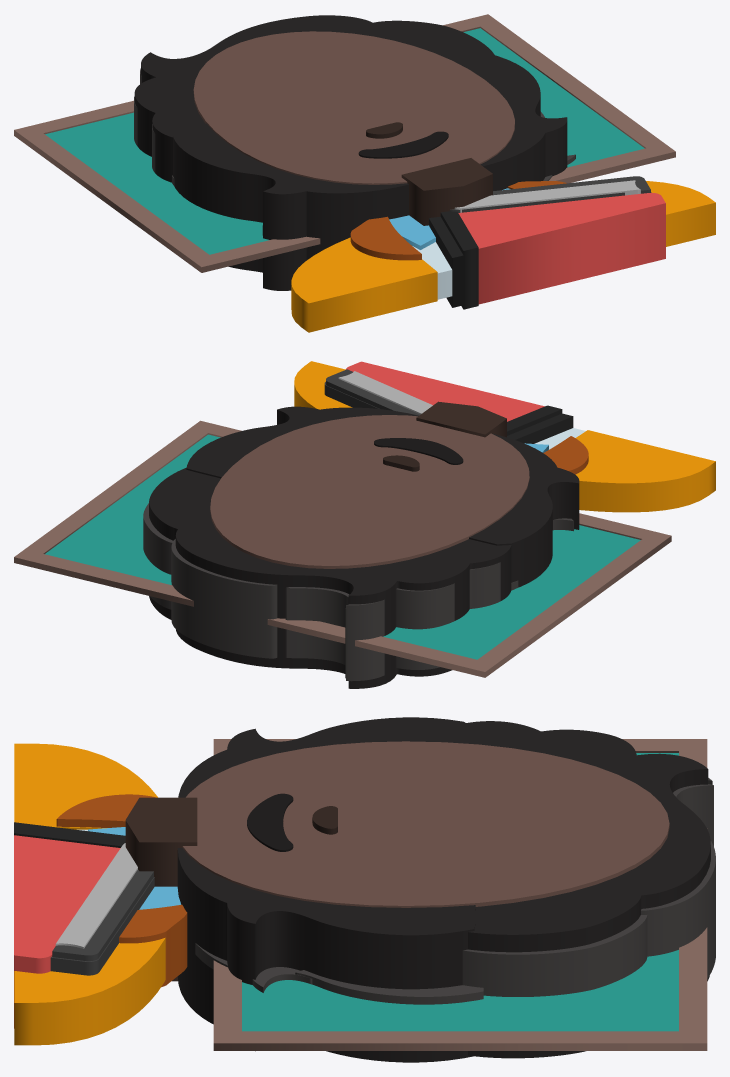
The model's file is emoji_u1f9d1_1f3ff_200d_1f3eb.glb.
The picture shows the model from 3 angles, top to bottom: view 1: azimuth 30°, elevation 25°; view 2: azimuth 150°, elevation 25°; view 3: azimuth 270°, elevation 25°; orthographic projection. The views are drawn at different scales.
Parts seen in each view (by area): view 1: emoji_u1f9d1_1f3ff_200d_1f3eb; view 2: emoji_u1f9d1_1f3ff_200d_1f3eb; view 3: emoji_u1f9d1_1f3ff_200d_1f3eb.
Part boxes in pixels (left/top/right/bottom): emoji_u1f9d1_1f3ff_200d_1f3eb: left=14, top=14, right=715, bottom=332; emoji_u1f9d1_1f3ff_200d_1f3eb: left=14, top=361, right=715, bottom=688; emoji_u1f9d1_1f3ff_200d_1f3eb: left=14, top=717, right=715, bottom=1062.
Size of the model in its own units: 0.0338 by 0.0074 by 0.033.
